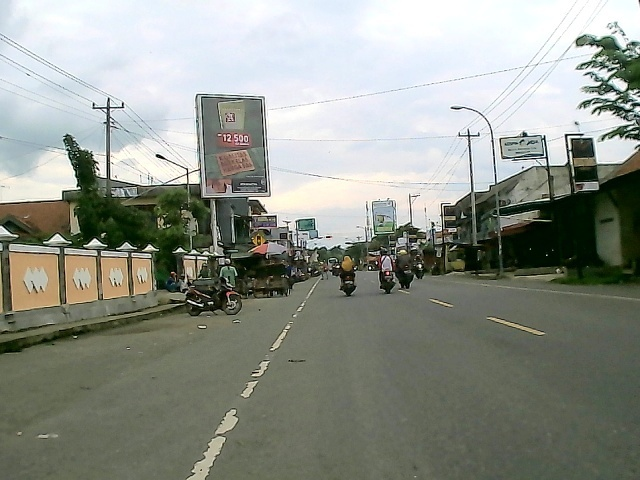Lampu isyarat: (249, 234, 266, 248)
